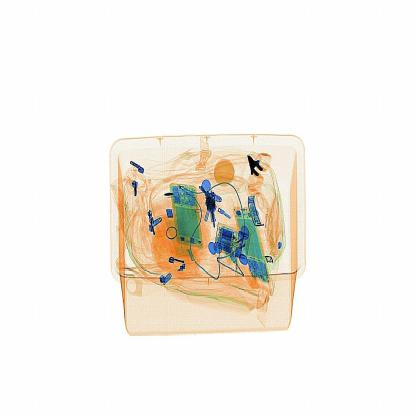gun: (240, 138, 286, 206)
